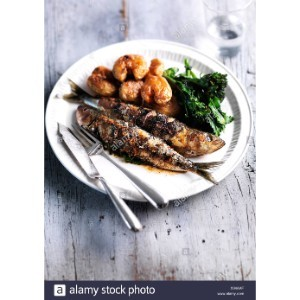sardine_brain food: (71, 60, 210, 157)
